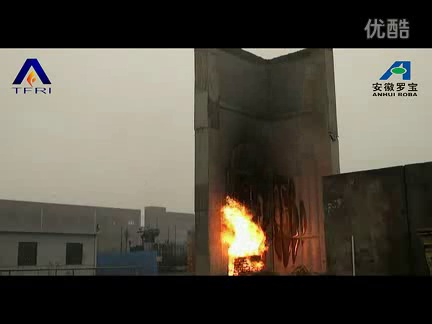fire: (216, 193, 267, 276)
